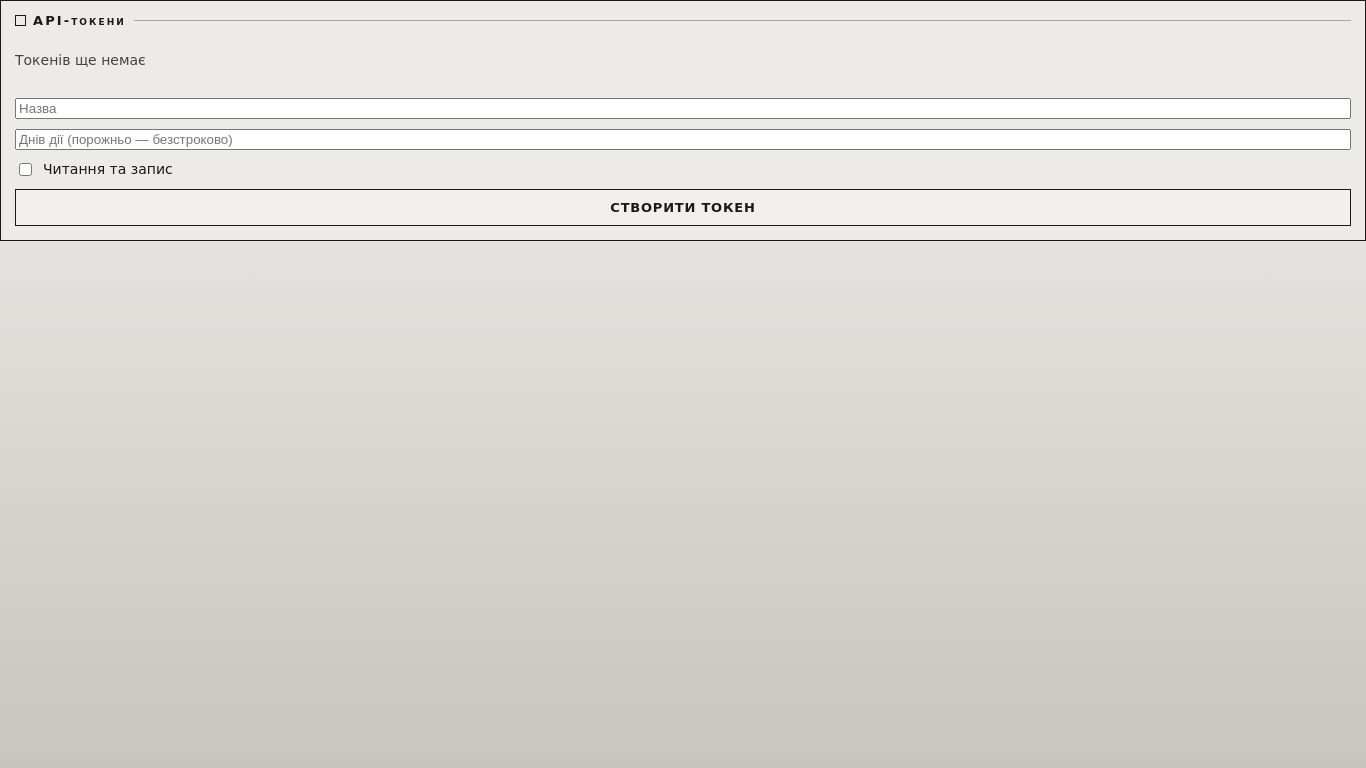
Scenario: TokensPanel › shows the created token value exactly once
Expected: the text "Токенів ще немає" is shown, [15,52,146,68]
Type "mcp" into the field with placeholder "Назва". click: x=683, y=108
box: [15,98,1351,119]
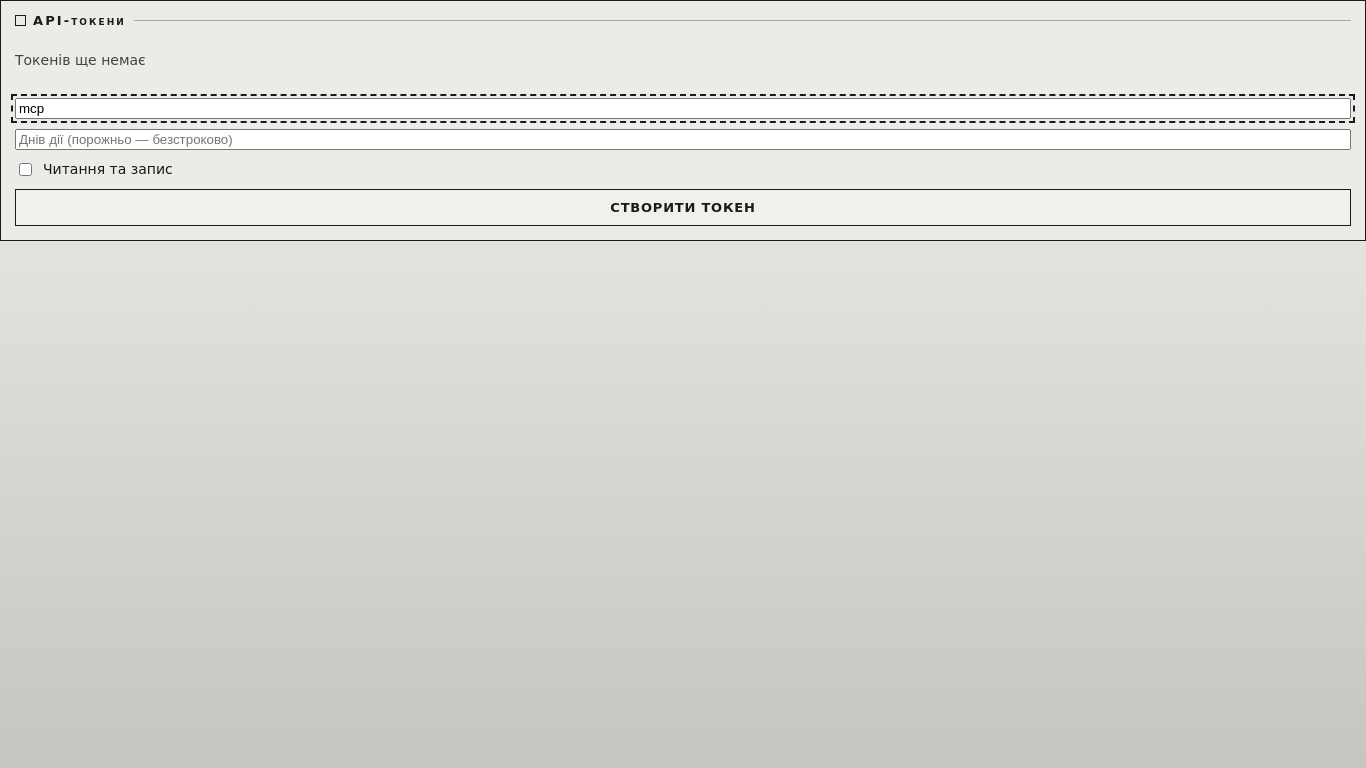
Click the button "Створити токен". click: x=683, y=207
box: [15,189,1351,226]
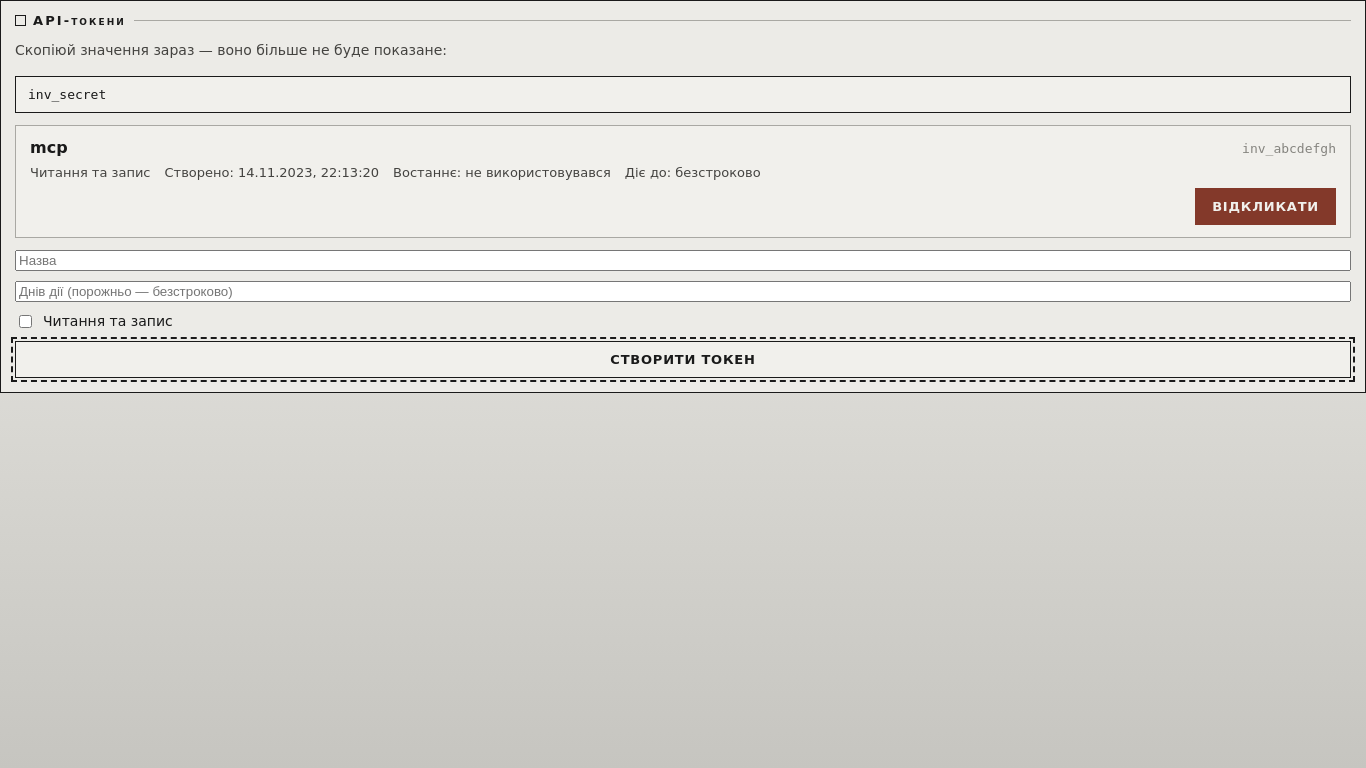
Expected: the text "inv_secret" is shown, [15,76,1351,113]
Expected: the text "Скопіюй значення зараз — воно більше не буде показане:" is shown, [15,42,447,58]
